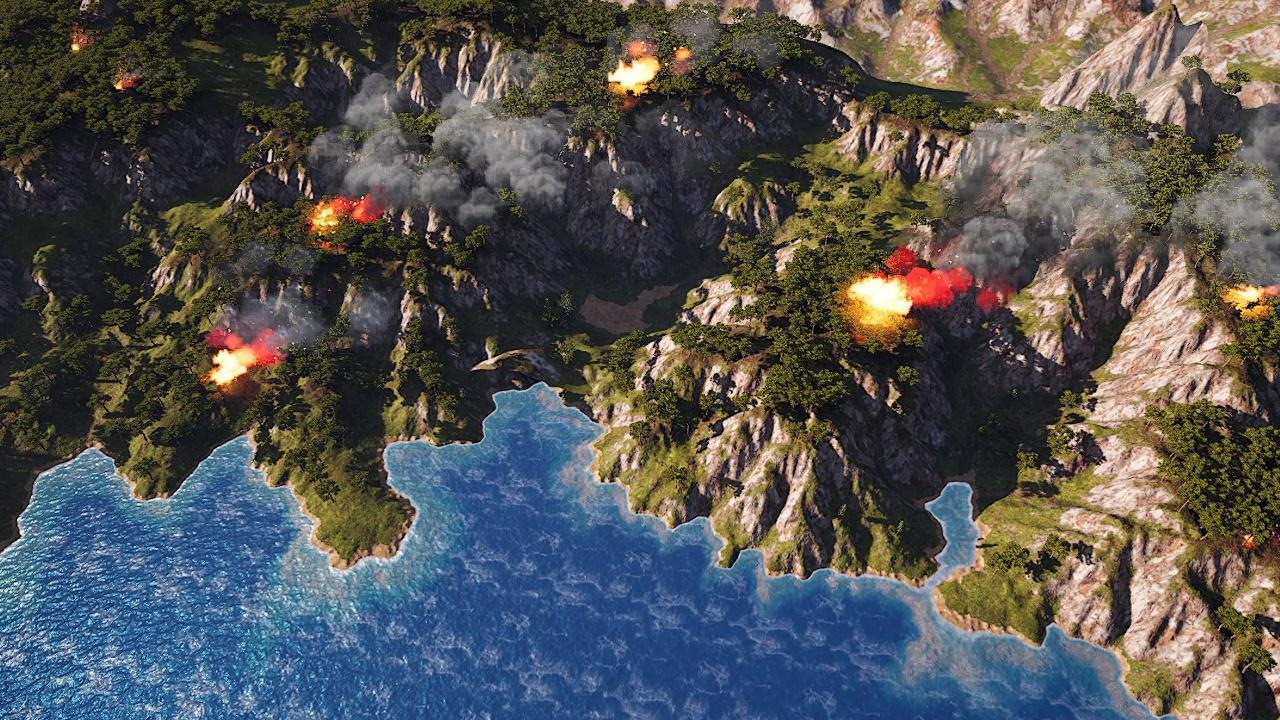fire: (847, 274, 913, 323), (209, 348, 257, 388), (1217, 282, 1280, 310), (612, 58, 659, 93), (64, 26, 88, 55), (115, 76, 136, 92)
smoke: (904, 103, 1280, 312), (300, 65, 572, 227), (611, 13, 785, 67)
